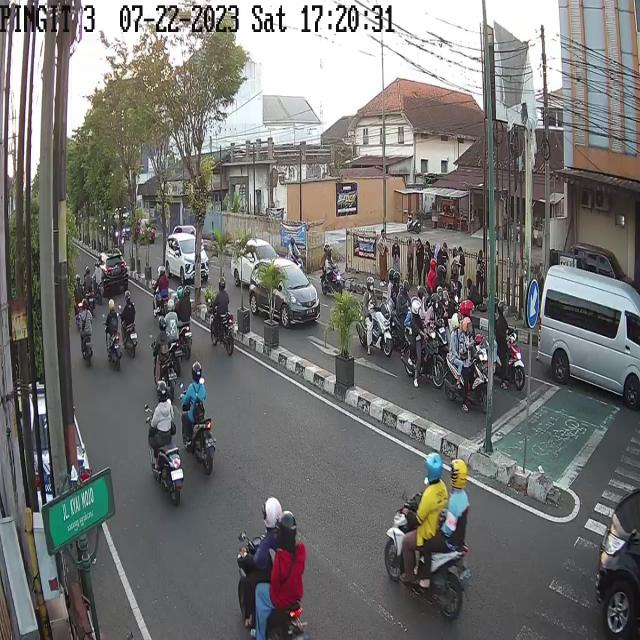car: (534, 262, 640, 412), (597, 490, 639, 640), (249, 256, 321, 328), (231, 239, 281, 289), (162, 232, 208, 285), (96, 248, 128, 294)
motorcycle: (387, 449, 472, 621), (234, 498, 311, 640), (442, 309, 488, 405), (148, 384, 184, 504), (181, 362, 216, 473), (400, 299, 440, 391), (487, 298, 526, 390), (359, 276, 390, 360), (171, 283, 195, 362), (211, 280, 236, 354), (161, 299, 184, 373), (153, 320, 174, 395), (119, 289, 140, 356), (103, 296, 123, 365), (321, 244, 343, 296), (154, 264, 173, 320), (78, 299, 93, 368), (82, 267, 96, 318), (74, 273, 86, 327)
